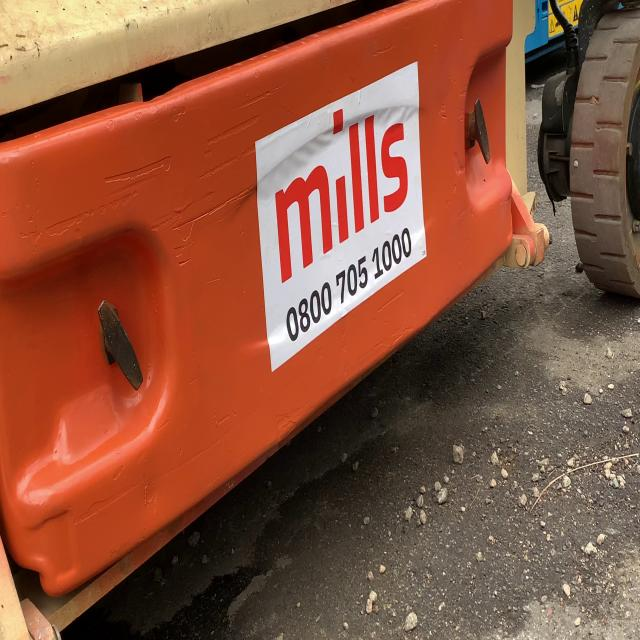Adesivos: (251, 55, 430, 380)
